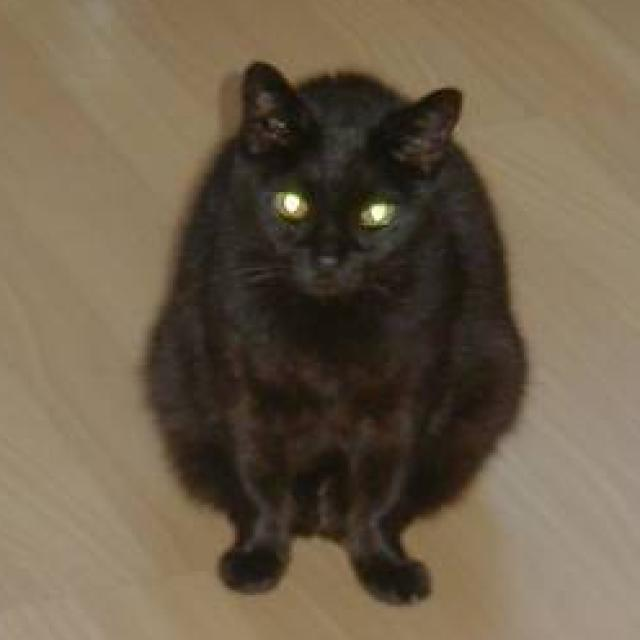Bombay: (142, 51, 532, 611)
